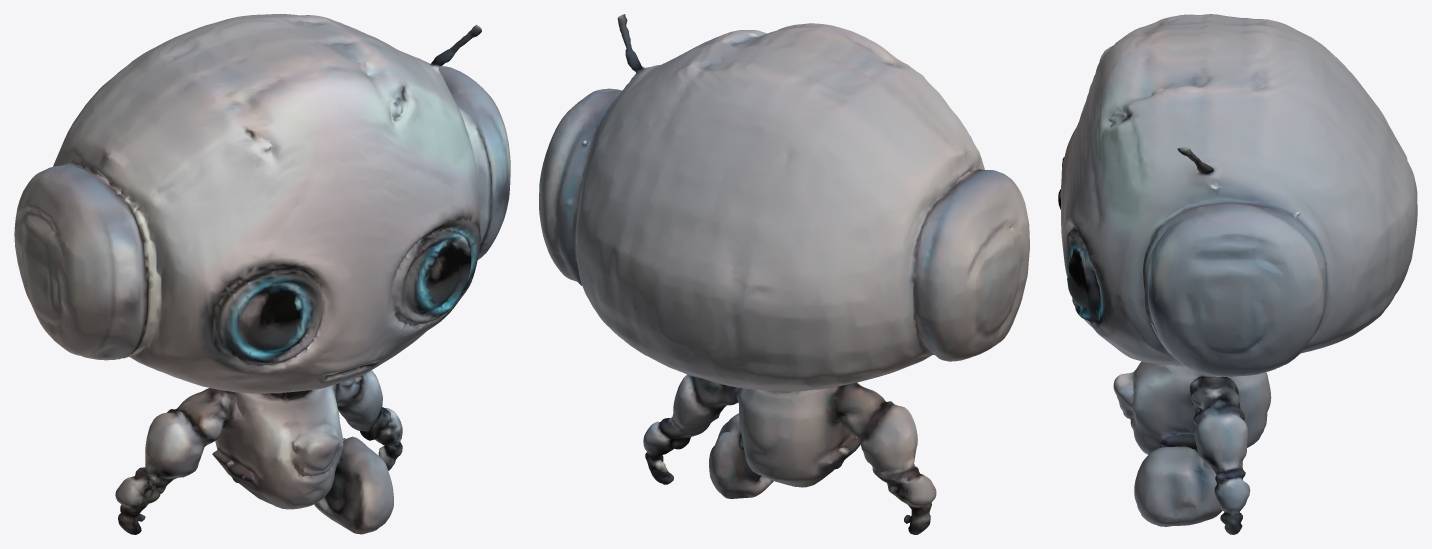
Rendered from robot.glb.
3 views of the same model, side by side, from view 1: azimuth 30°, elevation 25°; view 2: azimuth 150°, elevation 25°; view 3: azimuth 270°, elevation 25° (orthographic). The views are drawn at different scales.
Visible parts, largest first — view 1: Modelado; view 2: Modelado; view 3: Modelado.
Part boxes in pixels (bbox=[...]): Modelado: bbox=[14, 14, 510, 534]; Modelado: bbox=[539, 14, 1029, 534]; Modelado: bbox=[1058, 14, 1417, 534].
Bounding box in the file's own units: 0.972 × 0.9874 × 0.7106.
